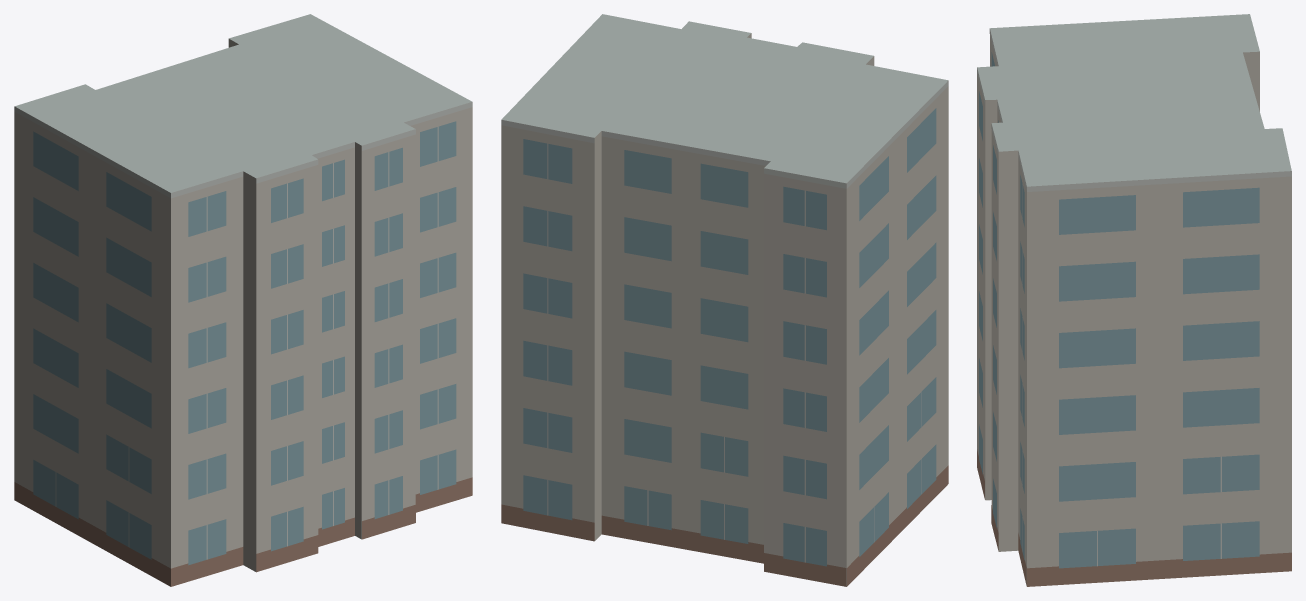
Rendered from survey-upis-32843819.glb.
The picture shows the model from 3 angles, left to right: view 1: azimuth 30°, elevation 25°; view 2: azimuth 150°, elevation 25°; view 3: azimuth 270°, elevation 25°; orthographic projection. The views are drawn at different scales.
Visible parts, largest first — view 1: survey-upis-32843819.tmp; view 2: survey-upis-32843819.tmp; view 3: survey-upis-32843819.tmp.
Boxes of the visible parts, x1=… form: survey-upis-32843819.tmp: x1=14, y1=14, x2=472, y2=586; survey-upis-32843819.tmp: x1=501, y1=14, x2=948, y2=586; survey-upis-32843819.tmp: x1=977, y1=14, x2=1291, y2=586.
Size of the model in its own units: 16.57 by 17.9 by 12.77.
